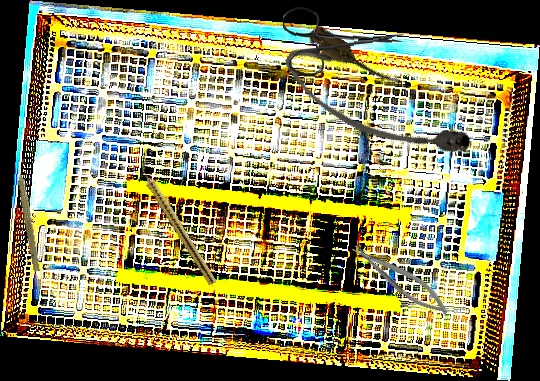Cannula: (274, 19, 481, 187)
Handpiece: (135, 161, 220, 287), (12, 158, 45, 273)
Iris Scissors: (282, 1, 406, 78)
Needle Holder: (348, 235, 454, 323)
